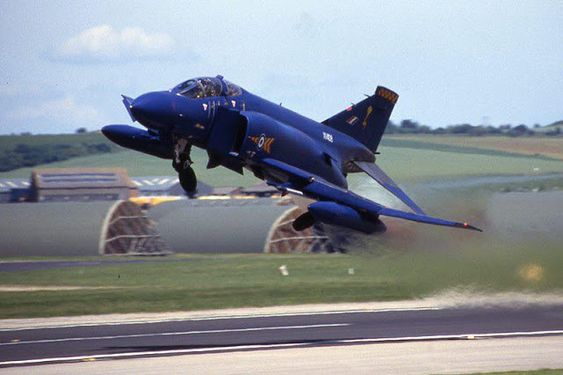F4: (100, 74, 483, 236)
